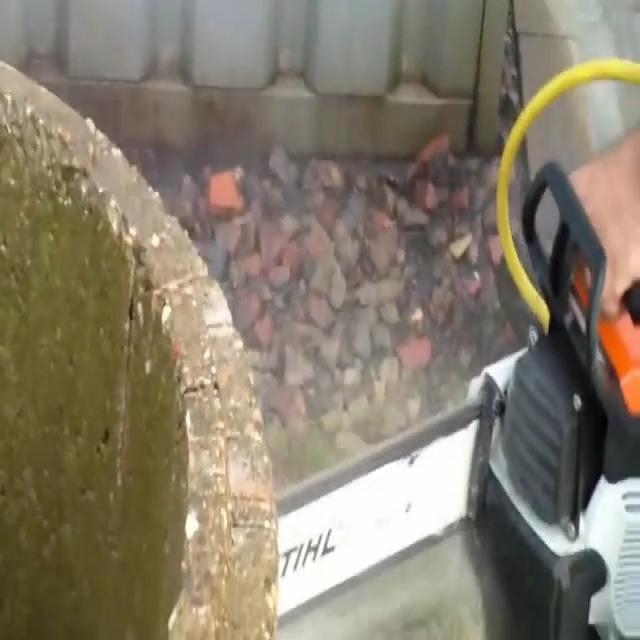Chainsaw: (201, 144, 639, 640)
